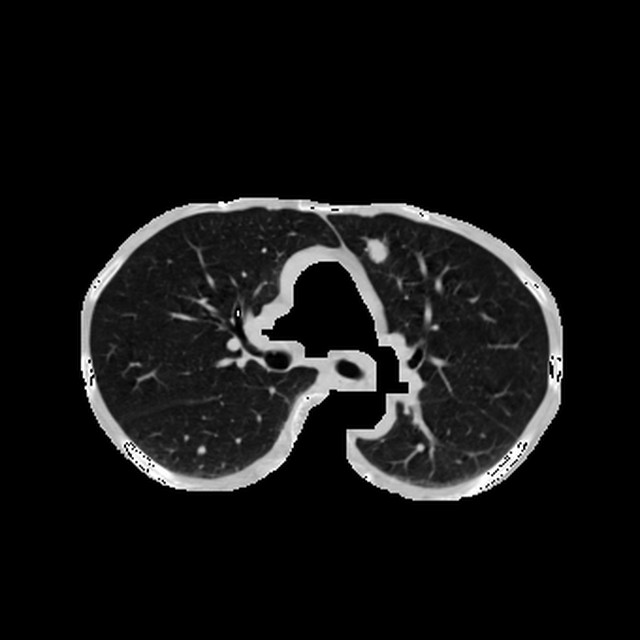PN: (365, 239, 392, 265)
